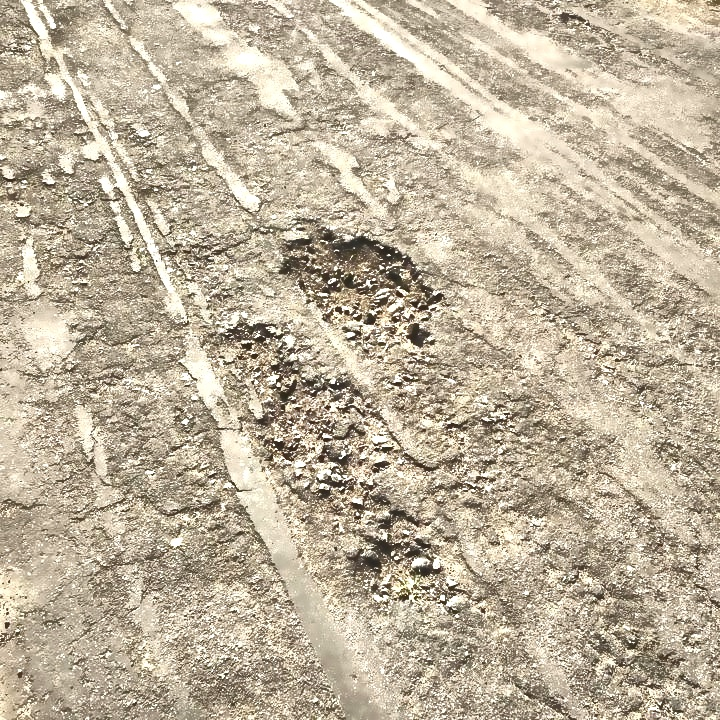pothole: (219, 321, 457, 607), (278, 214, 445, 356)
